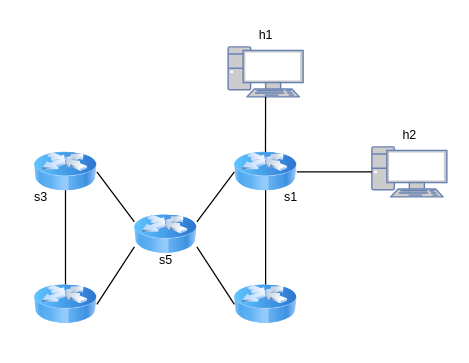
Some shapes in this 469 by 363 pixel diagram are drawn without their labels. The shapes that lost their labels are listed below. From the top down, each one's box as (x1, y1, x2, y2) in pixels, then its label:
(34, 279, 96, 329): s4
(234, 279, 296, 329): s2
